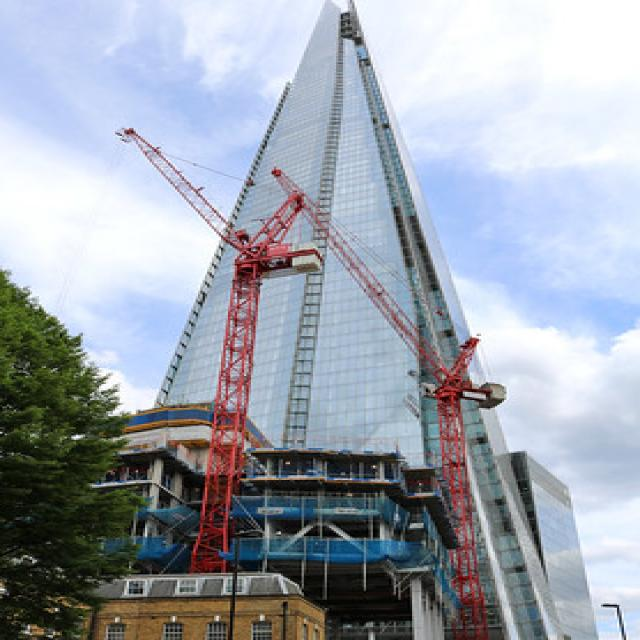Normal_building: (75, 0, 572, 637)
